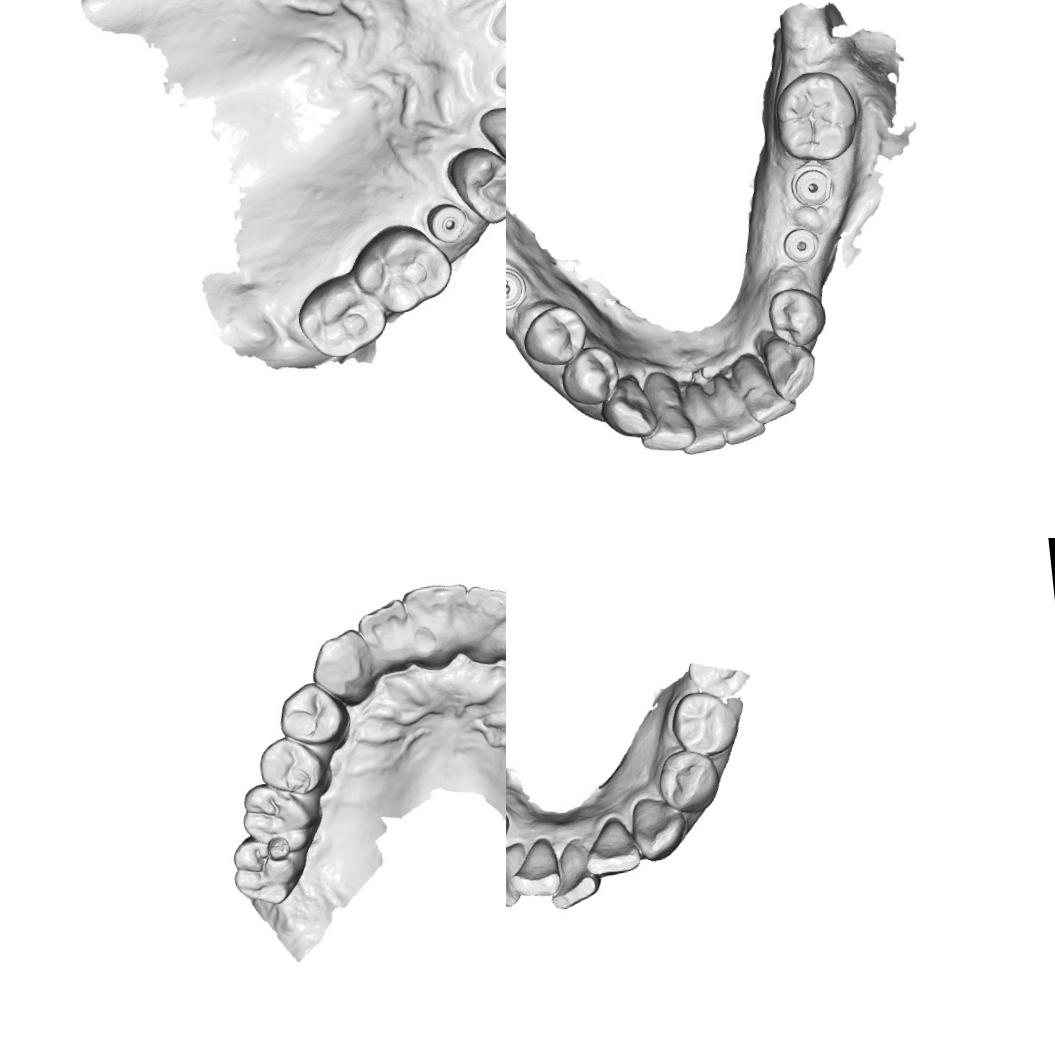canine: (306, 627, 376, 708), (758, 331, 822, 406), (599, 373, 658, 441), (630, 796, 688, 865), (480, 94, 506, 166)
implant: (422, 199, 472, 246), (789, 164, 833, 208), (781, 225, 822, 268)
implant_minus: (506, 267, 525, 309)
incisor: (402, 580, 475, 670), (632, 366, 694, 454), (733, 352, 798, 428), (355, 596, 414, 672), (462, 579, 506, 675), (545, 839, 601, 912), (675, 379, 727, 456), (711, 380, 766, 448), (509, 839, 565, 902), (586, 816, 643, 876), (506, 842, 528, 909)
molar: (348, 218, 456, 321), (770, 68, 864, 166), (294, 274, 390, 362), (238, 776, 328, 858), (227, 831, 309, 912)
premolar: (254, 732, 338, 799), (275, 678, 351, 750), (444, 139, 506, 227), (669, 685, 739, 760), (764, 284, 829, 350), (655, 749, 720, 813), (524, 304, 588, 366), (563, 346, 622, 404)
